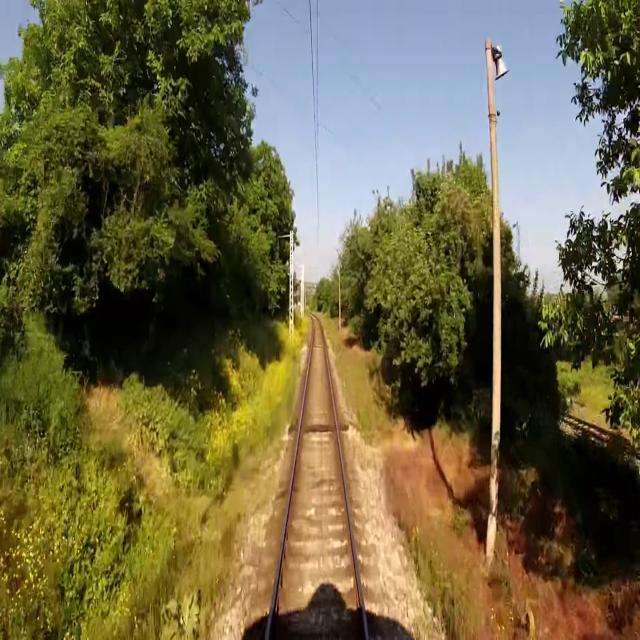rail-track: (269, 317, 364, 639)
